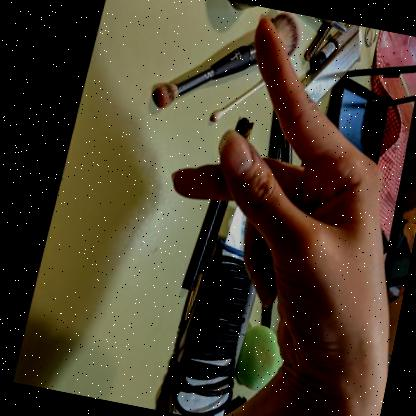P: (218, 15, 388, 388)
